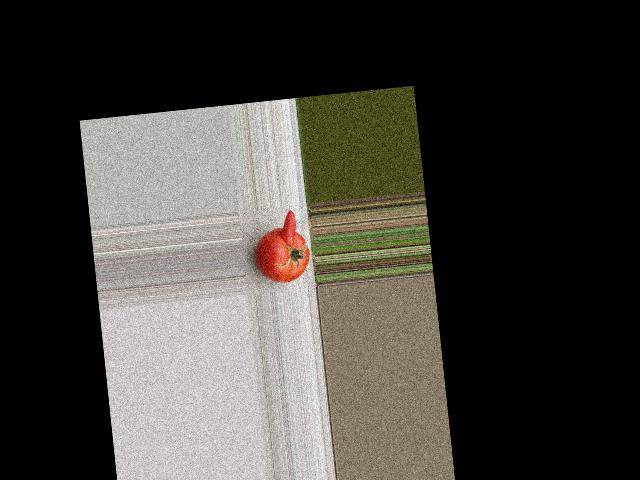tomato: (253, 225, 312, 285)
